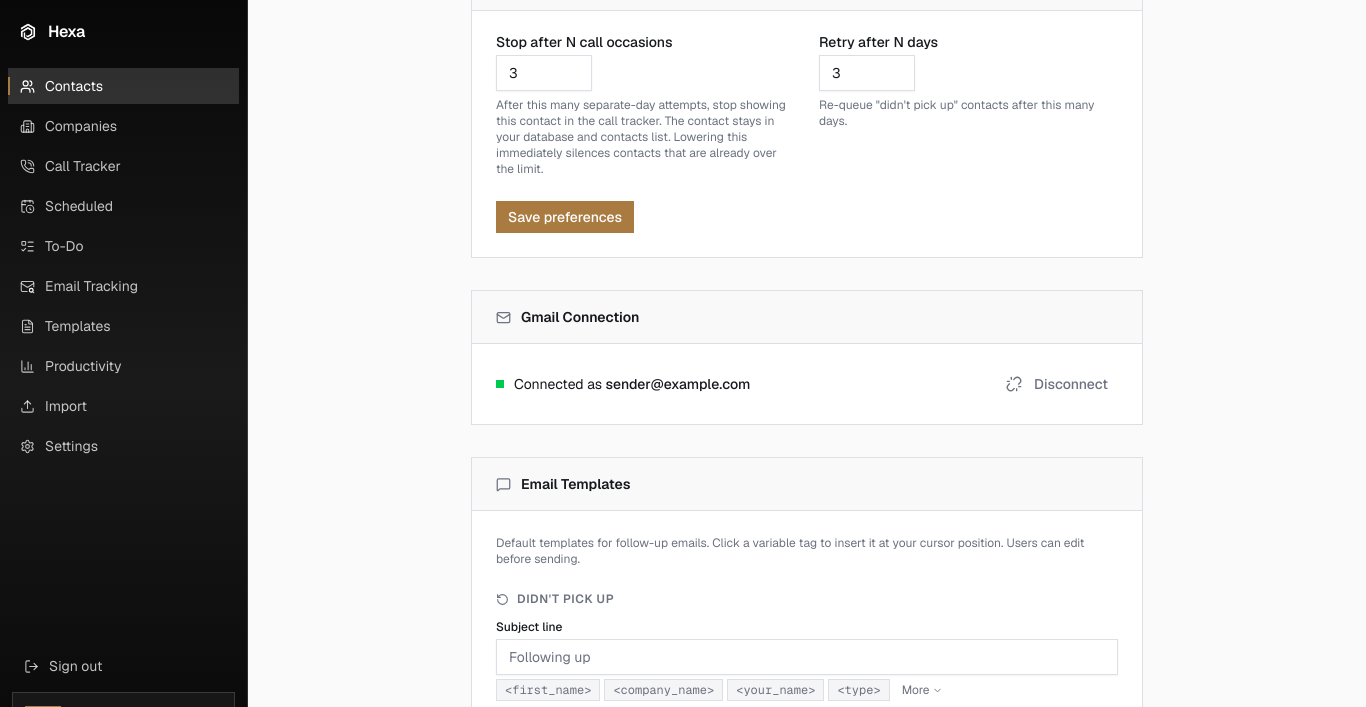
SettingsPage › shows connected Gmail state and disconnects the account
(page scrolled)
Expected: the text "sender@example.com" is shown, [606,375,750,393]
Step 1. Click the button "Disconnect" → (1057,384), box [996,368,1118,400]
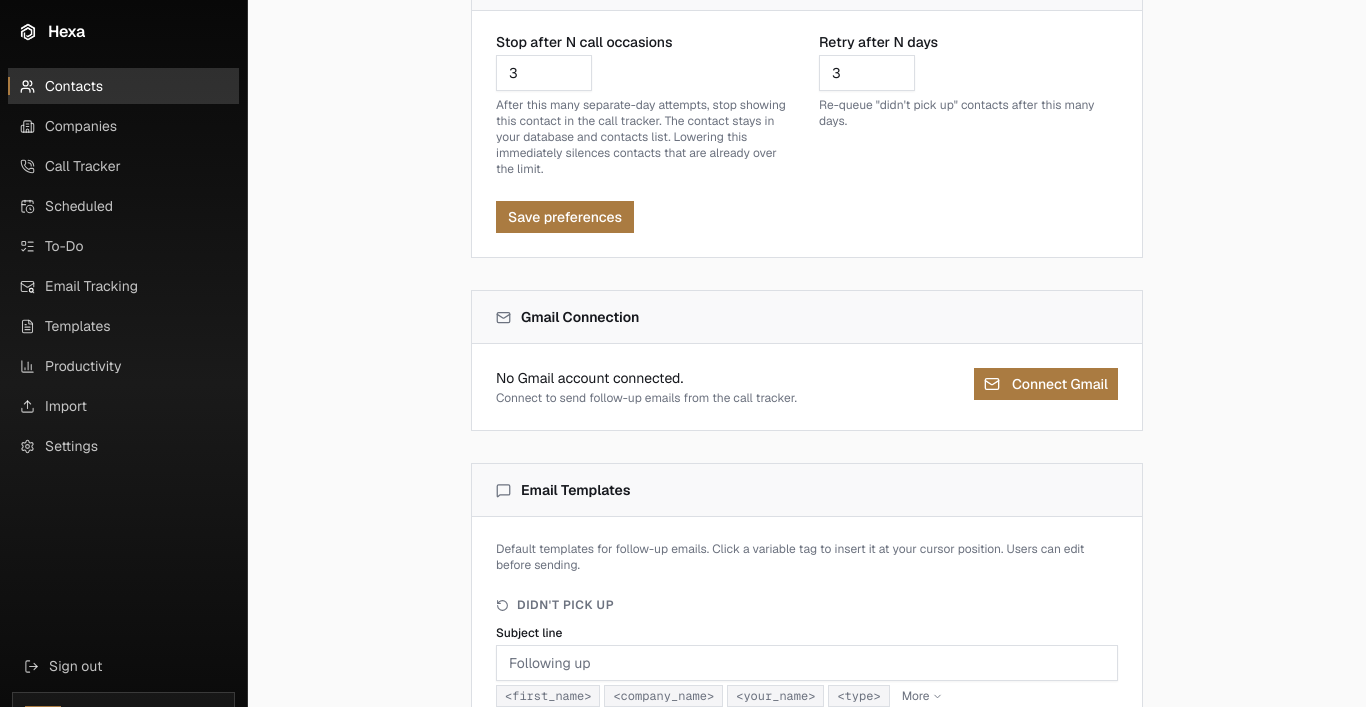
Expected: the text "No Gmail account connected." is shown, [496,369,683,387]
